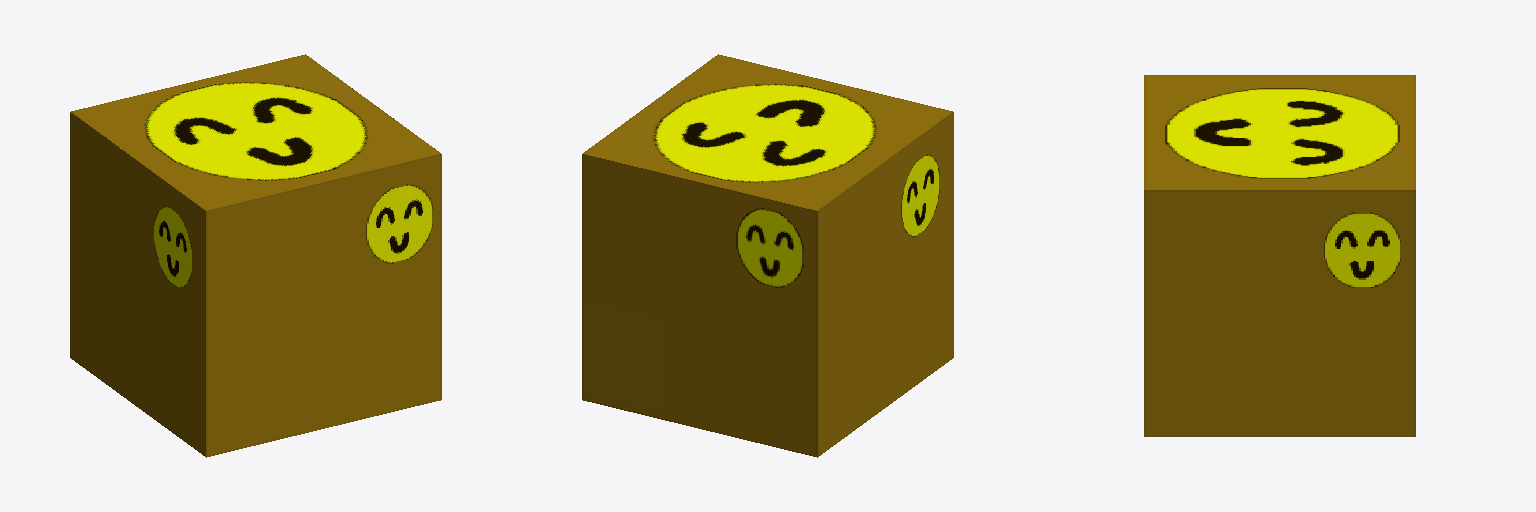
3 renders of one model, left to right at view 1: azimuth 30°, elevation 25°; view 2: azimuth 150°, elevation 25°; view 3: azimuth 270°, elevation 25°, orthographic.
Visible parts, largest first — view 1: pCube1; view 2: pCube1; view 3: pCube1.
Boxes of the visible parts, <box> form: pCube1: <box>70,54,441,457</box>; pCube1: <box>582,54,953,457</box>; pCube1: <box>1144,75,1415,436</box>.
Size of the model in its own units: 2.19 by 2.19 by 2.19.
Materials: 1 (1 with a texture image).